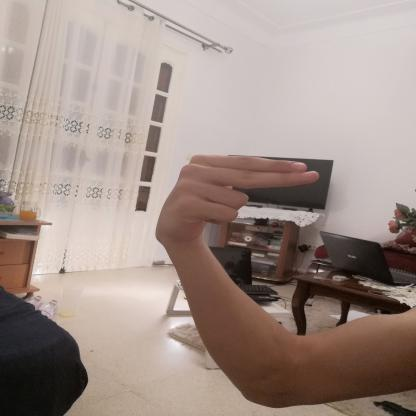AYN: (143, 145, 327, 242)
